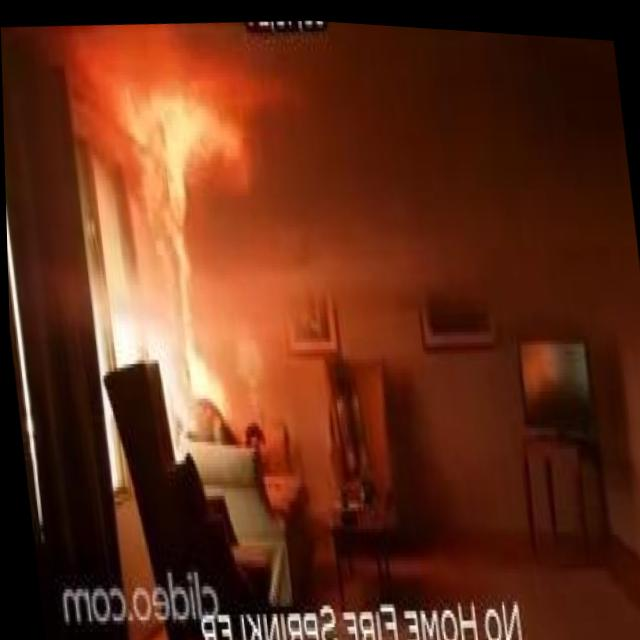fire: (151, 83, 229, 399), (125, 65, 267, 217)
